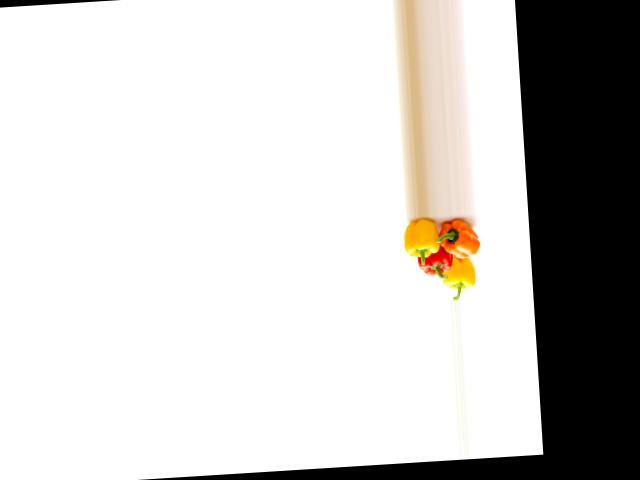bell_pepper: (401, 216, 450, 265)
